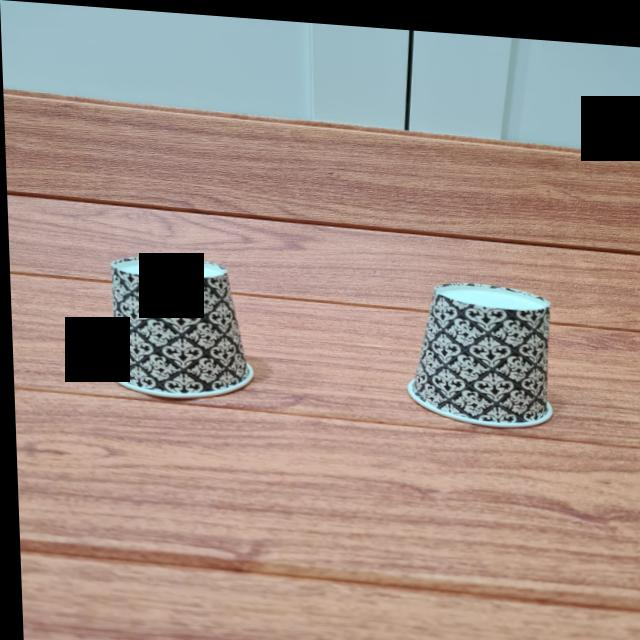cups: (400, 260, 564, 429), (105, 249, 247, 401)
